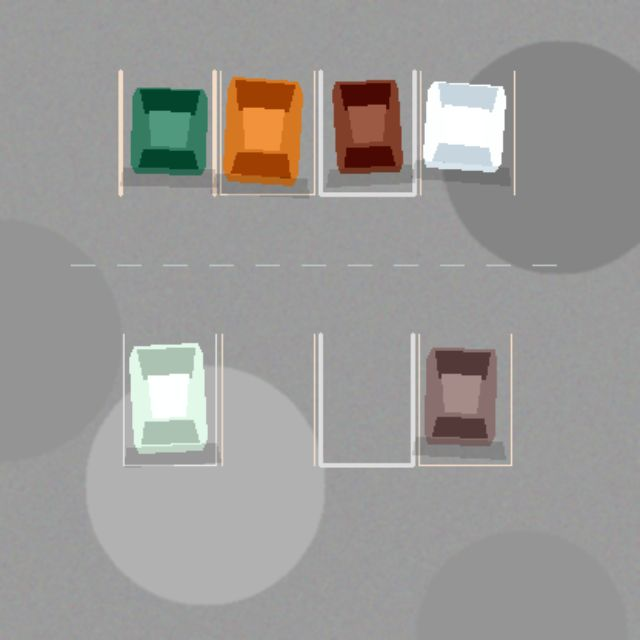space-empty: (222, 334, 314, 465), (320, 334, 412, 465)
space-occupied: (418, 334, 511, 465), (123, 334, 215, 465), (120, 71, 214, 194), (220, 71, 314, 194), (320, 71, 414, 194), (420, 71, 514, 194)
